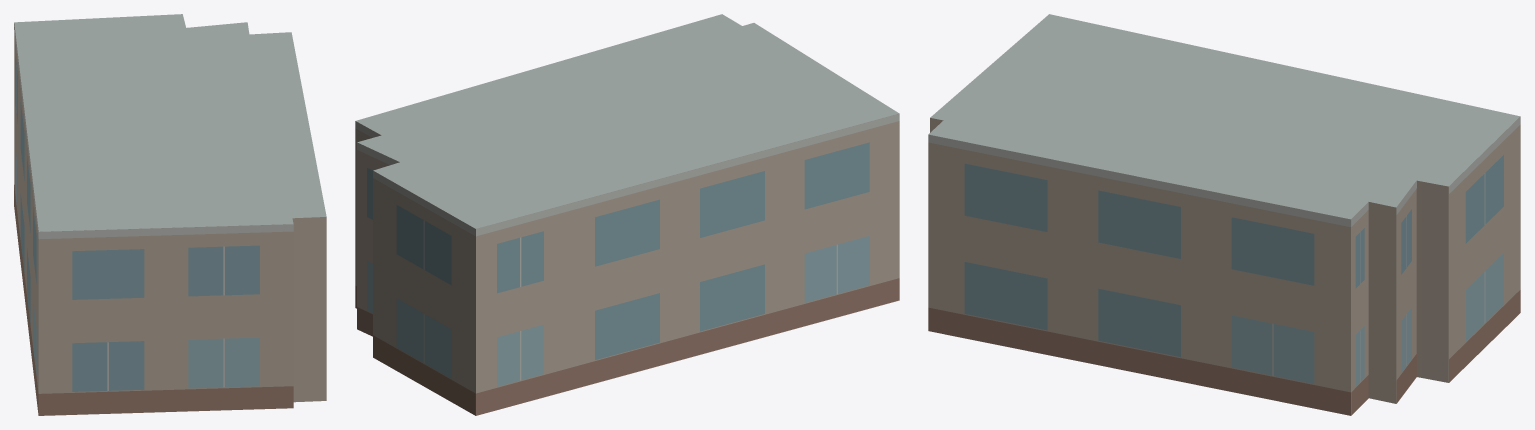
File: survey-upis-32658386.glb
The picture shows the model from 3 angles, left to right: view 1: azimuth 30°, elevation 25°; view 2: azimuth 150°, elevation 25°; view 3: azimuth 270°, elevation 25°; orthographic projection. The views are drawn at different scales.
Visible parts, largest first — view 1: survey-upis-32658386.tmp; view 2: survey-upis-32658386.tmp; view 3: survey-upis-32658386.tmp.
Boxes of the visible parts, left/top/right/bottom form: survey-upis-32658386.tmp: left=14, top=14, right=326, bottom=415; survey-upis-32658386.tmp: left=355, top=14, right=899, bottom=415; survey-upis-32658386.tmp: left=928, top=14, right=1520, bottom=415.
Bounding box in the file's own units: 13.69 × 6.1 × 16.68.
